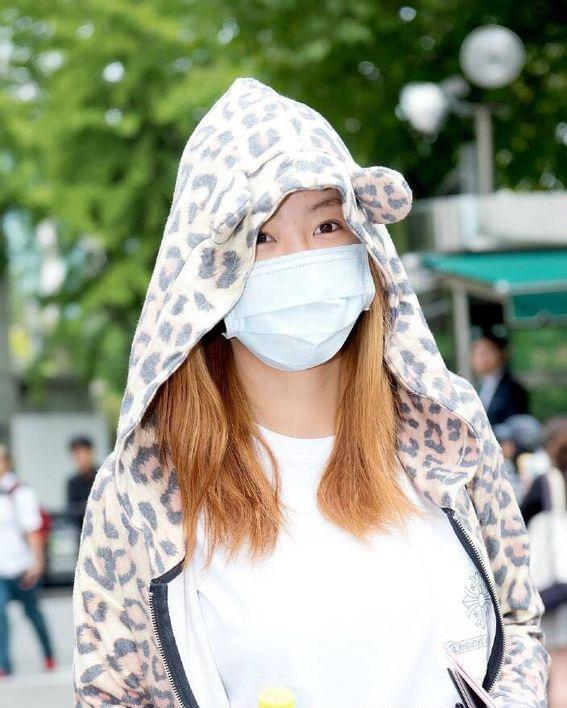OK: (220, 190, 393, 363)
